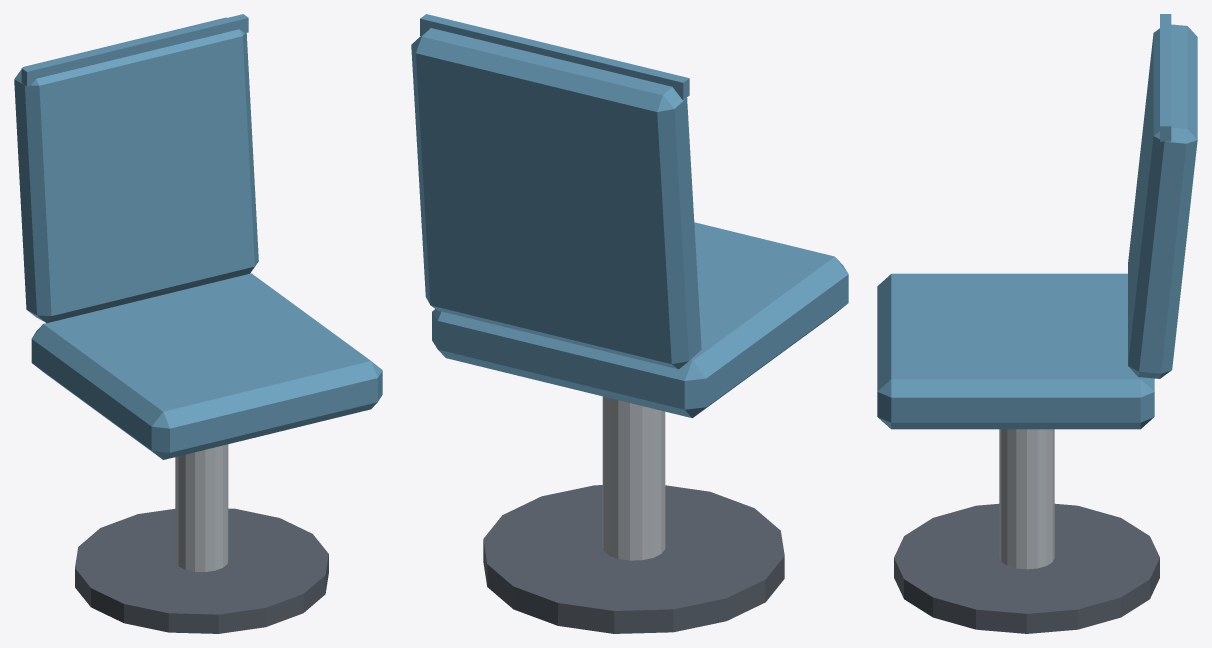
The model's file is spaceship-deck-kit-crew-seat-7dcdcc58__12571.glb.
3 views of the same model, side by side, from view 1: azimuth 30°, elevation 25°; view 2: azimuth 150°, elevation 25°; view 3: azimuth 270°, elevation 25° (orthographic). The views are drawn at different scales.
Visible parts, largest first — view 1: crew-seat; view 2: crew-seat; view 3: crew-seat.
Boxes of the visible parts, x1,y1,x2,y2 form: crew-seat: (14,14,382,633); crew-seat: (411,14,848,633); crew-seat: (877,14,1197,633).
Bounding box in the file's own units: 0.5 × 1.01 × 0.5778.
